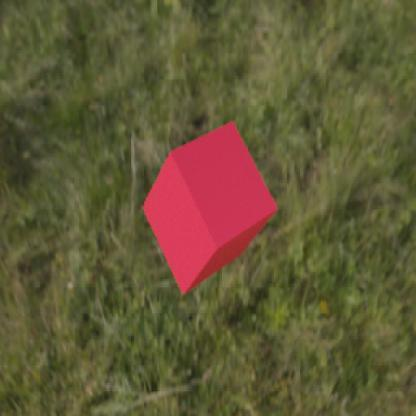red_cube: (141, 120, 276, 294)
